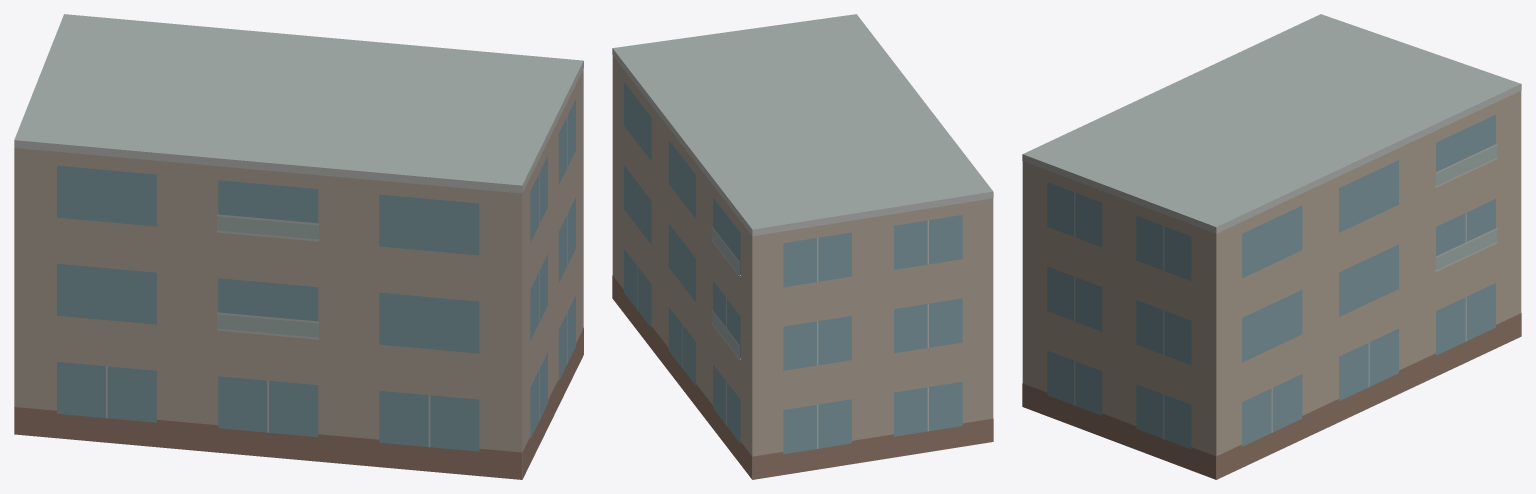
File: survey-upis-32722091.glb
The picture shows the model from 3 angles, left to right: view 1: azimuth 30°, elevation 25°; view 2: azimuth 150°, elevation 25°; view 3: azimuth 270°, elevation 25°; orthographic projection. The views are drawn at different scales.
Parts seen in each view (by area): view 1: survey-upis-32722091.tmp; view 2: survey-upis-32722091.tmp; view 3: survey-upis-32722091.tmp.
Boxes of the visible parts, x1,y1,x2,y2 form: survey-upis-32722091.tmp: (14, 14, 583, 479); survey-upis-32722091.tmp: (612, 14, 993, 479); survey-upis-32722091.tmp: (1022, 14, 1521, 479).
Size of the model in its own units: 16.56 by 9.15 by 16.38.
